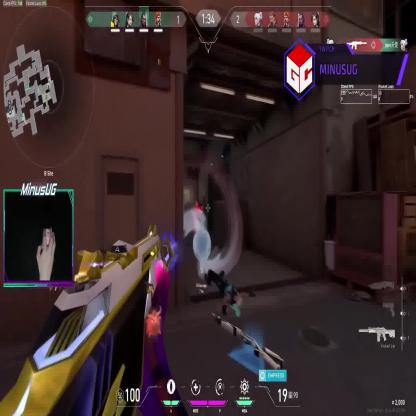enemy: (194, 201, 206, 236)
enemy_head: (196, 200, 198, 206)
